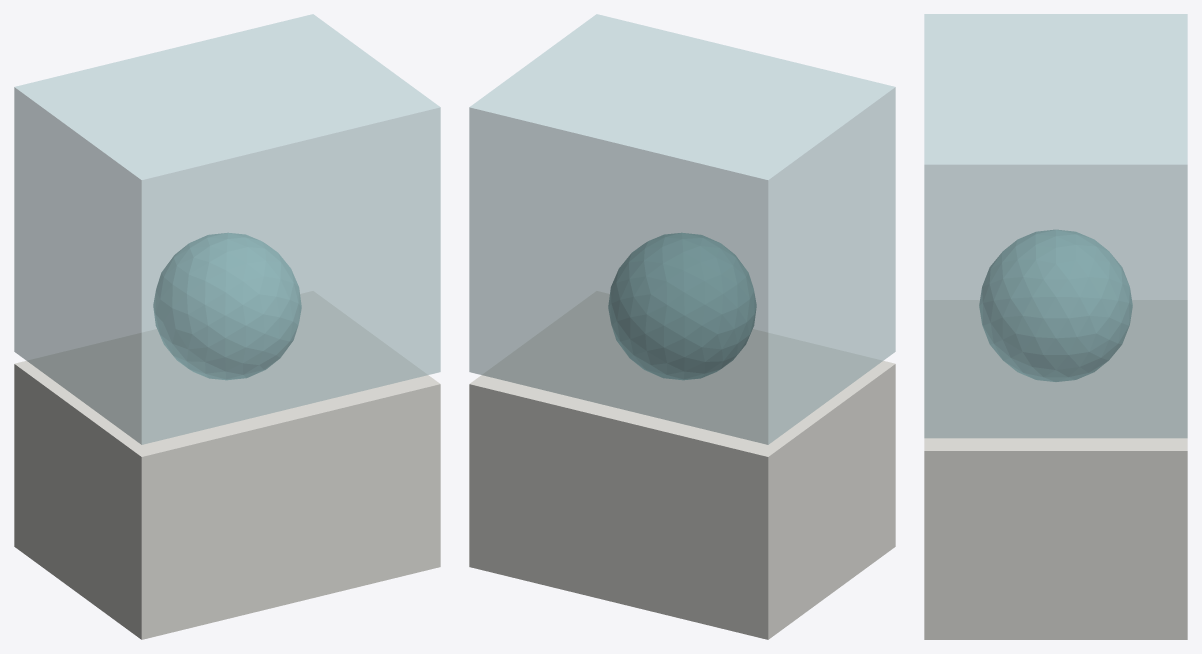
Rendered from display_case_02.glb.
The picture shows the model from 3 angles, left to right: view 1: azimuth 30°, elevation 25°; view 2: azimuth 150°, elevation 25°; view 3: azimuth 270°, elevation 25°; orthographic projection. The views are drawn at different scales.
Visible parts, largest first — view 1: glass, base, artifact; view 2: glass, base, artifact; view 3: glass, base, artifact.
Boxes of the visible parts, x1,y1,x2,y2 form: glass: (14, 14, 440, 444); base: (14, 291, 440, 639); artifact: (153, 233, 301, 379); glass: (469, 14, 895, 444); base: (469, 291, 895, 639); artifact: (608, 233, 756, 379); glass: (924, 14, 1187, 438); base: (924, 300, 1187, 639); artifact: (979, 230, 1132, 381).
Size of the model in its own units: 0.65 by 0.955 by 0.48.
